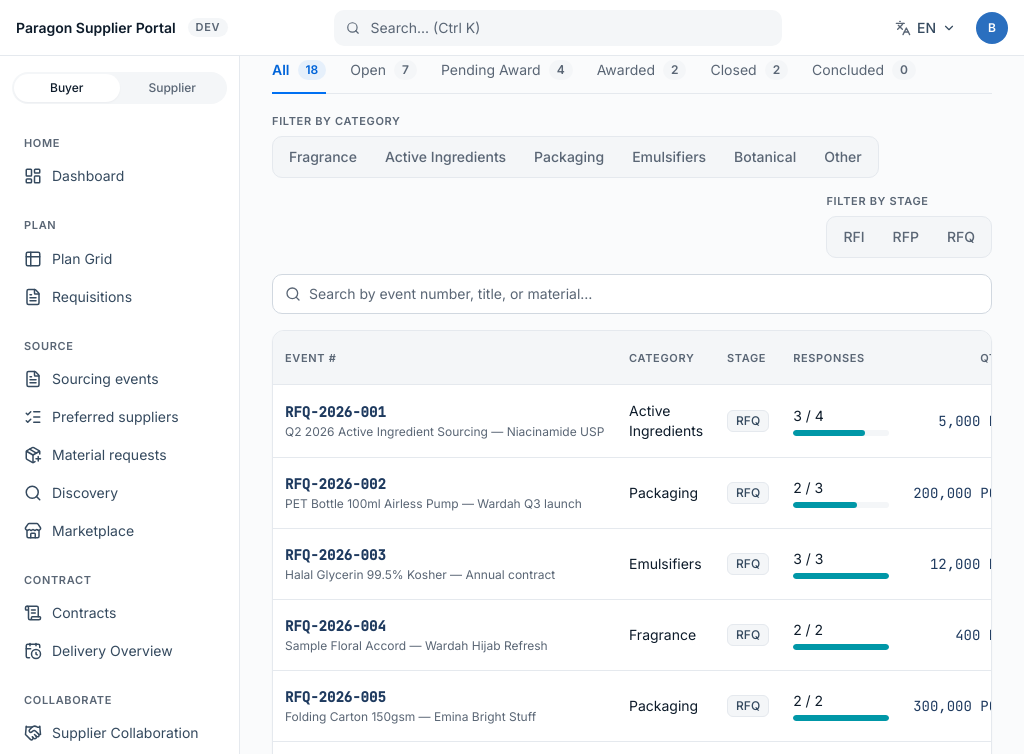
Test: §76 · the drawer — publish (Draft only) › and the publish notice does NOT appear on an Open RFQ — the act is not there
(page scrolled)
Click the text "RFQ-2026-001" at x=335, y=412, box [285, 403, 386, 421]
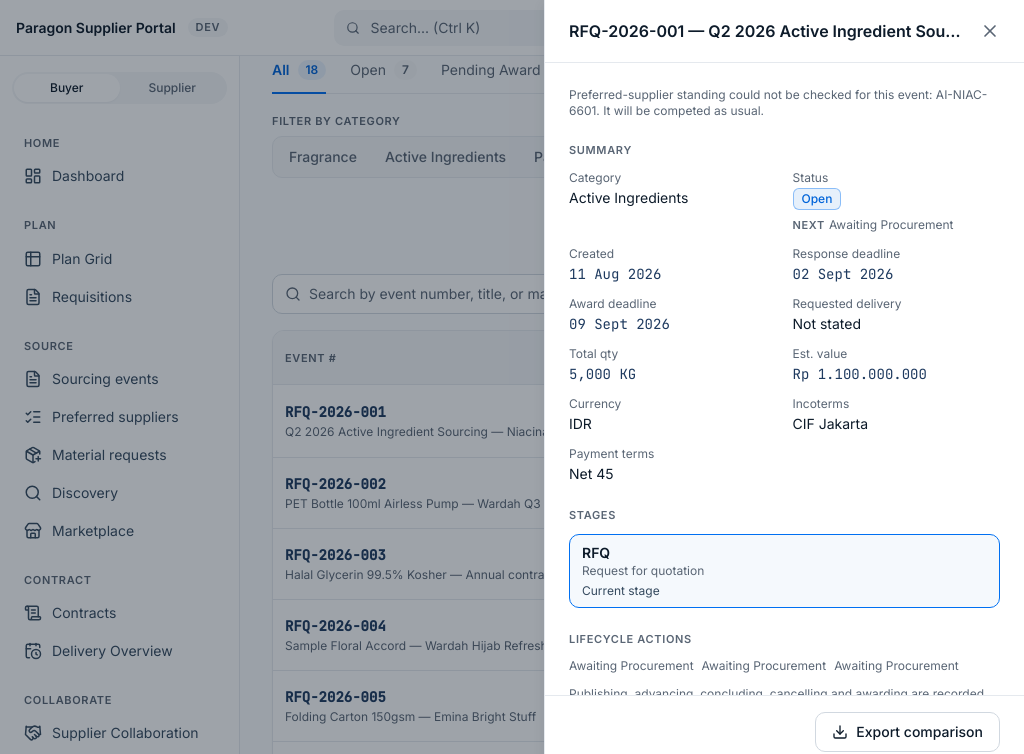
Now the text with test id "handoff-rfq-cancel" is shown, box [834, 658, 959, 674]
